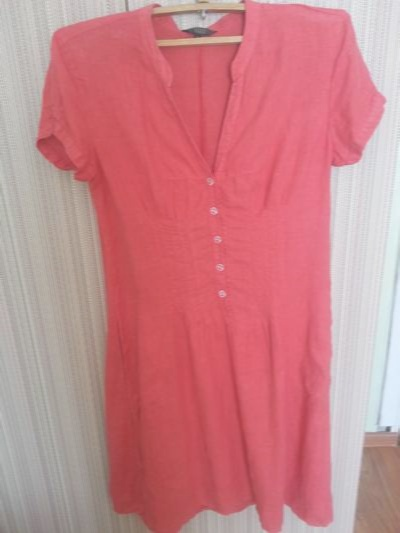Dress: (34, 10, 366, 519)
